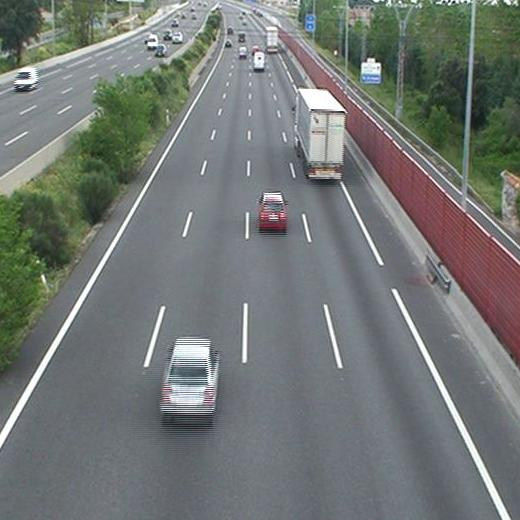car: (161, 339, 219, 413), (259, 194, 287, 229), (224, 39, 232, 48)
truck: (295, 90, 345, 178), (266, 27, 278, 52)
van: (254, 51, 265, 70), (239, 45, 247, 57), (237, 32, 245, 42)
